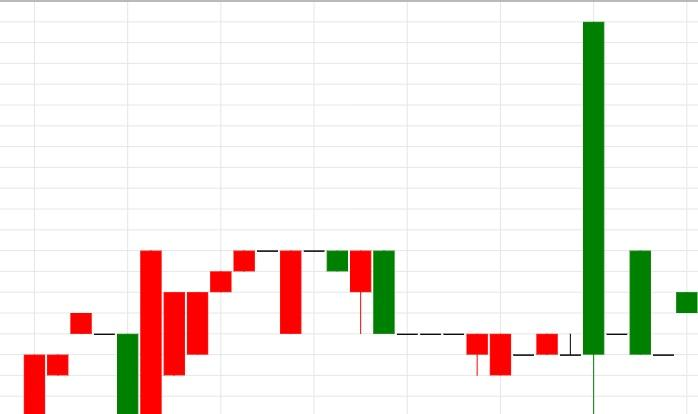bearish_engulfing_fall: (117, 250, 395, 413)
evening_star_fall: (116, 250, 349, 413)
